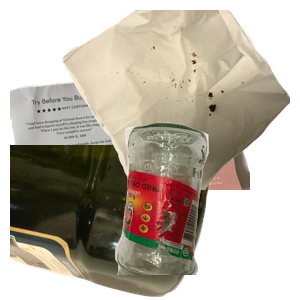glass: (112, 120, 300, 300)
paper: (10, 61, 250, 241)
plastic: (10, 145, 213, 300)
trash: (60, 10, 300, 190)
